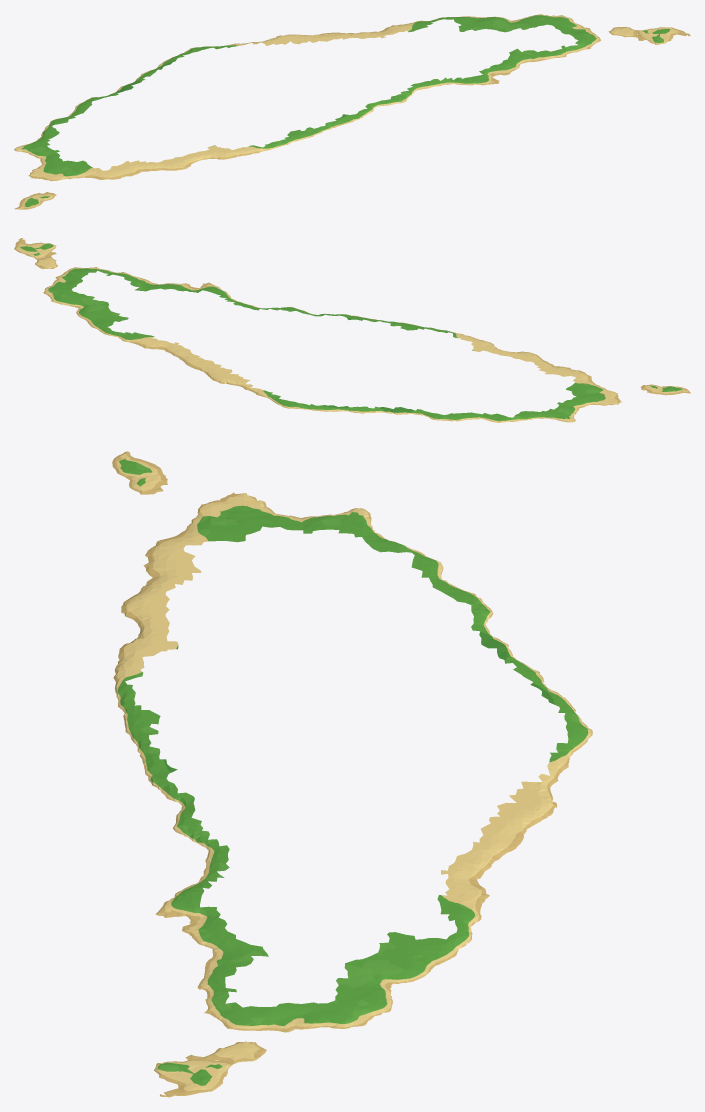
File: Isl-long5-Ground.fbx
3 views of the same model, one above another, from view 1: azimuth 30°, elevation 25°; view 2: azimuth 150°, elevation 25°; view 3: azimuth 270°, elevation 25° (orthographic). The views are drawn at different scales.
Visible parts, largest first — view 1: Isl-long5-Ground-c11, Isl-long5-Ground-c31, Isl-long5-Ground-c21, Isl-long5-Ground-c22, Isl-long5-Ground-c12, Isl-long5-Ground-c01, Isl-long5-Ground-c32; view 2: Isl-long5-Ground-c11, Isl-long5-Ground-c22, Isl-long5-Ground-c31, Isl-long5-Ground-c12, Isl-long5-Ground-c32, Isl-long5-Ground-c21, Isl-long5-Ground-c01; view 3: Isl-long5-Ground-c31, Isl-long5-Ground-c11, Isl-long5-Ground-c22, Isl-long5-Ground-c21, Isl-long5-Ground-c32, Isl-long5-Ground-c12, Isl-long5-Ground-c01.
Boxes of the visible parts, left/top/right/bottom form: Isl-long5-Ground-c11: left=25, top=129, right=312, bottom=179; Isl-long5-Ground-c31: left=497, top=15, right=690, bottom=67; Isl-long5-Ground-c21: left=305, top=59, right=518, bottom=136; Isl-long5-Ground-c22: left=191, top=17, right=469, bottom=51; Isl-long5-Ground-c12: left=23, top=48, right=197, bottom=145; Isl-long5-Ground-c01: left=14, top=146, right=66, bottom=209; Isl-long5-Ground-c32: left=451, top=14, right=561, bottom=30; Isl-long5-Ground-c11: left=399, top=323, right=605, bottom=417; Isl-long5-Ground-c22: left=101, top=317, right=294, bottom=408; Isl-long5-Ground-c31: left=14, top=238, right=166, bottom=306; Isl-long5-Ground-c12: left=288, top=402, right=563, bottom=422; Isl-long5-Ground-c32: left=43, top=293, right=122, bottom=331; Isl-long5-Ground-c21: left=158, top=282, right=403, bottom=326; Isl-long5-Ground-c01: left=563, top=384, right=690, bottom=421; Isl-long5-Ground-c31: left=154, top=939, right=364, bottom=1097; Isl-long5-Ground-c11: left=113, top=513, right=364, bottom=731; Isl-long5-Ground-c22: left=387, top=727, right=592, bottom=944; Isl-long5-Ground-c21: left=126, top=727, right=235, bottom=944; Isl-long5-Ground-c32: left=360, top=938, right=466, bottom=1025; Isl-long5-Ground-c12: left=360, top=516, right=592, bottom=730; Isl-long5-Ground-c01: left=112, top=451, right=364, bottom=518.
Size of the model in its own units: 181 by 0.4896 by 56.73.
